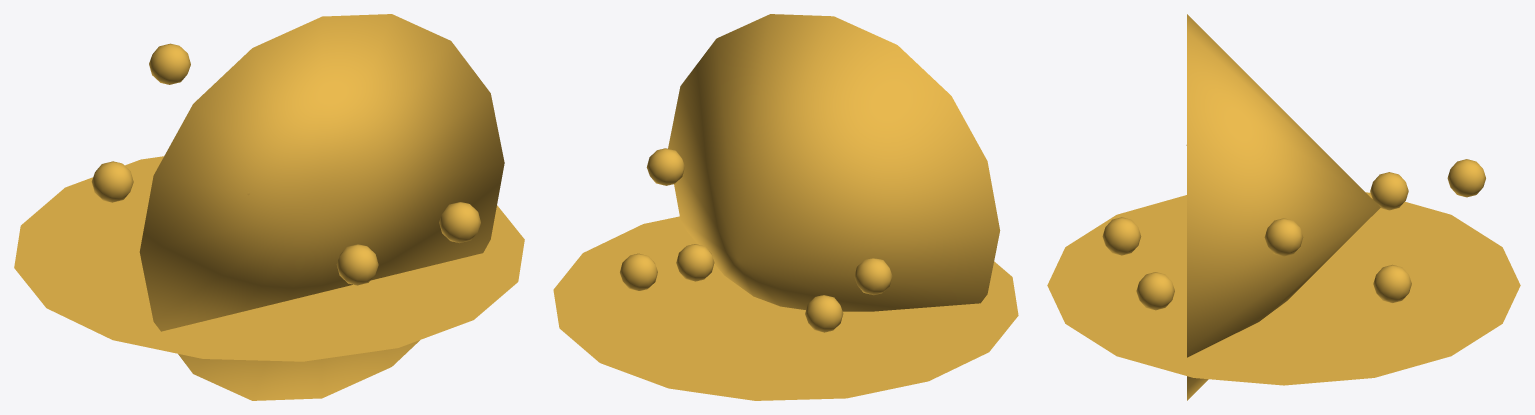
File: fairy-dust.glb
3 renders of one model, left to right at view 1: azimuth 30°, elevation 25°; view 2: azimuth 150°, elevation 25°; view 3: azimuth 270°, elevation 25°, orthographic. The views are drawn at different scales.
Visible parts, largest first — view 1: fairy-dust-dust, fairy-dust-base, fairy-dust-sparkles; view 2: fairy-dust-dust, fairy-dust-base, fairy-dust-sparkles; view 3: fairy-dust-base, fairy-dust-dust, fairy-dust-sparkles.
Boxes of the visible parts, x1,y1,x2,y2 form: fairy-dust-dust: (139, 14, 504, 400); fairy-dust-base: (14, 156, 524, 361); fairy-dust-sparkles: (91, 43, 480, 285); fairy-dust-dust: (668, 14, 1000, 311); fairy-dust-base: (553, 216, 1018, 400); fairy-dust-sparkles: (620, 148, 892, 332); fairy-dust-base: (1047, 192, 1520, 385); fairy-dust-dust: (1187, 14, 1380, 400); fairy-dust-sparkles: (1102, 145, 1485, 310).
Size of the model in its own units: 0.44 by 0.36 by 0.44.
